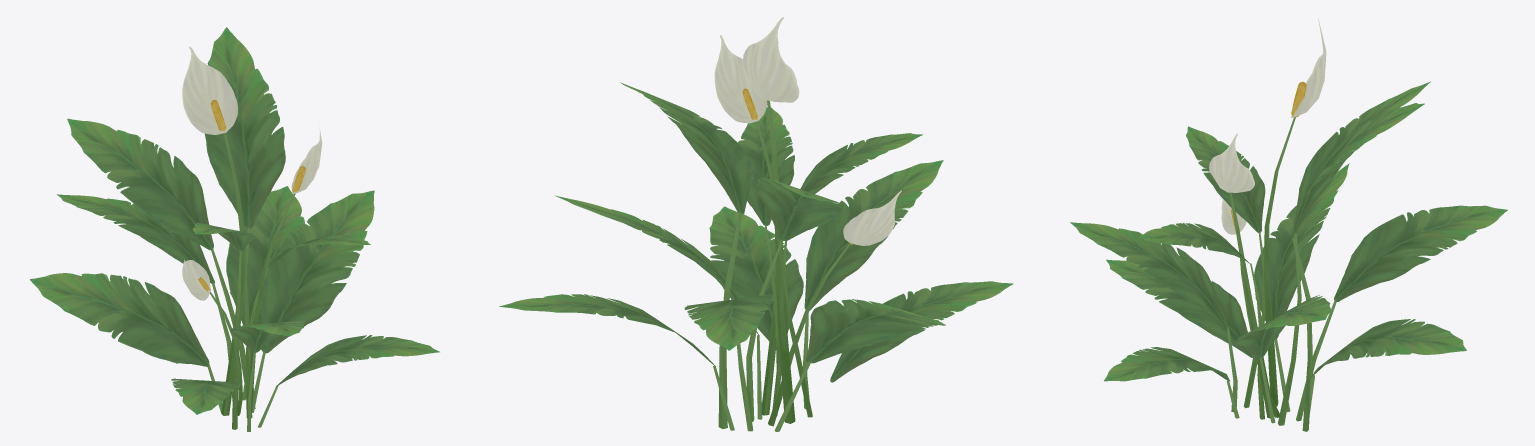
The model's file is SM_EastLands_Spathiphyllum_01.fbx.
3 views of the same model, side by side, from view 1: azimuth 30°, elevation 25°; view 2: azimuth 150°, elevation 25°; view 3: azimuth 270°, elevation 25° (orthographic). The views are drawn at different scales.
Visible parts, largest first — view 1: SM_EastLands_Spathiphyllum_01_LOD0; view 2: SM_EastLands_Spathiphyllum_01_LOD0; view 3: SM_EastLands_Spathiphyllum_01_LOD0.
Boxes of the visible parts, box(x1,y1,x2,y2) form: SM_EastLands_Spathiphyllum_01_LOD0: box(30, 27, 439, 431); SM_EastLands_Spathiphyllum_01_LOD0: box(499, 17, 1013, 431); SM_EastLands_Spathiphyllum_01_LOD0: box(1070, 18, 1507, 431).
Size of the model in its own units: 106 by 104 by 113.
